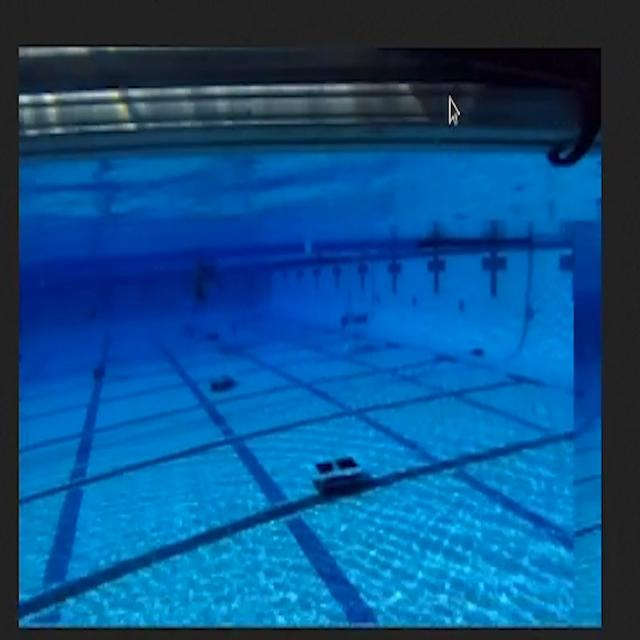Bin: (295, 432, 386, 507)
